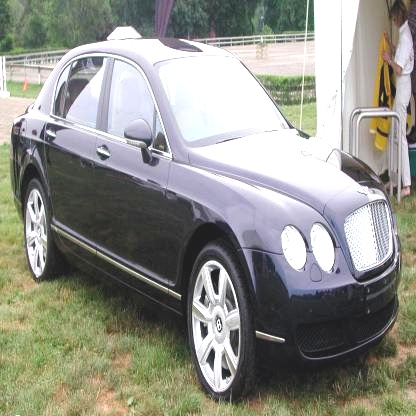Vehicle: (9, 34, 401, 400)
